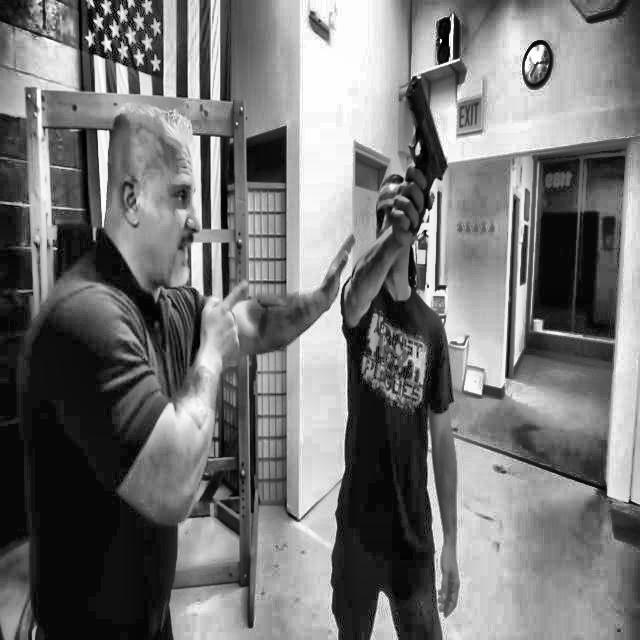pistol: (396, 68, 472, 248)
